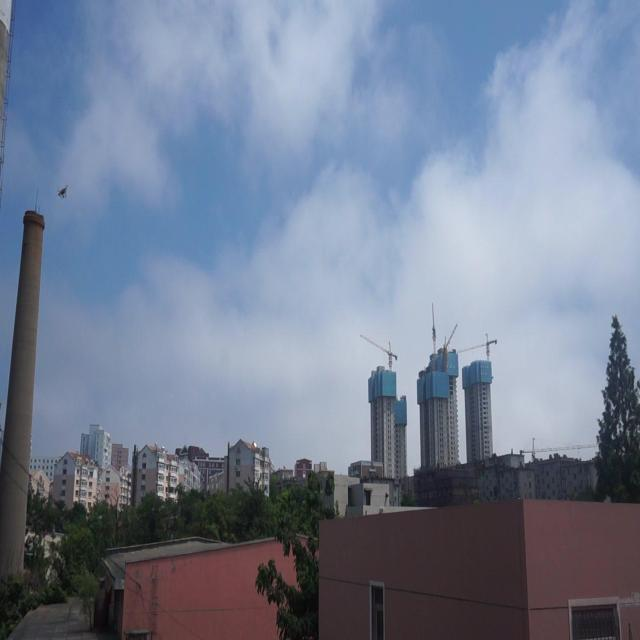drone: (56, 179, 68, 202)
